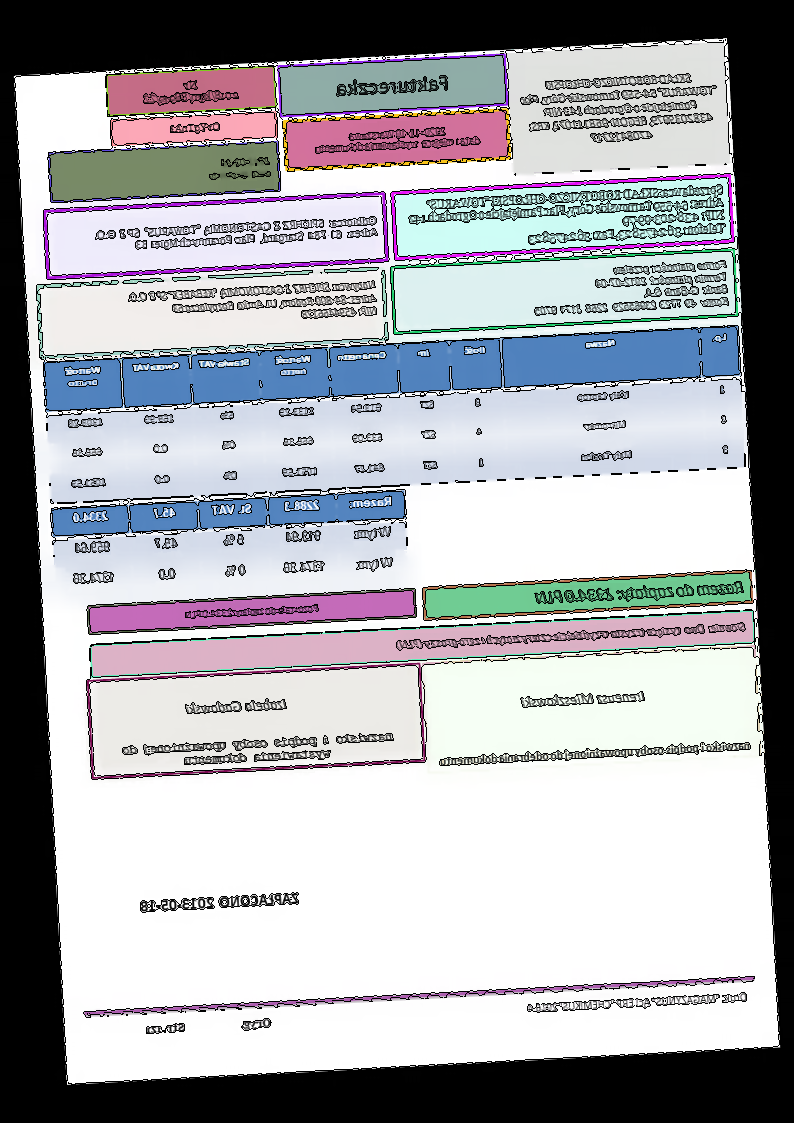Table: (41, 324, 747, 504), (49, 488, 412, 601)
TextBox: (404, 181, 728, 252), (514, 68, 722, 151), (123, 276, 380, 331), (91, 211, 382, 255), (529, 256, 732, 319), (395, 618, 747, 653), (119, 728, 397, 771), (438, 735, 753, 770), (533, 575, 747, 609), (526, 988, 749, 1018), (311, 123, 483, 156), (135, 888, 304, 915), (140, 74, 242, 109), (519, 685, 649, 712), (180, 599, 322, 621), (142, 1015, 274, 1038), (335, 73, 451, 99), (182, 693, 290, 719), (205, 154, 273, 185), (168, 119, 223, 138)
